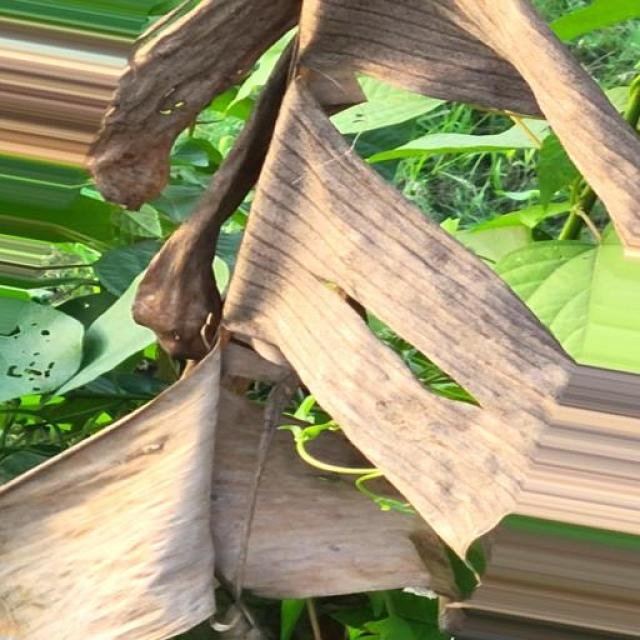Bract_mosaic_virus: (128, 224, 558, 626), (85, 0, 640, 221), (5, 415, 133, 640), (565, 339, 640, 629), (600, 217, 640, 280)
